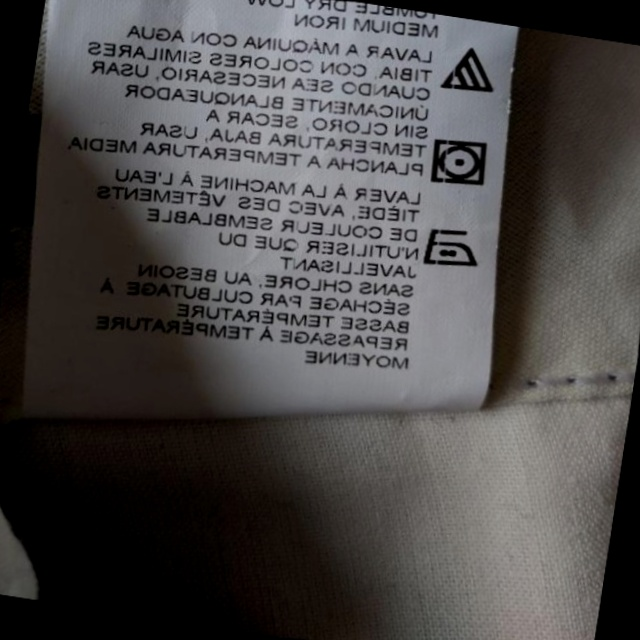iron_medium: (416, 219, 481, 273)
non_chlorine_bleach: (432, 37, 501, 105)
tumble_dry_low: (424, 130, 497, 193)
